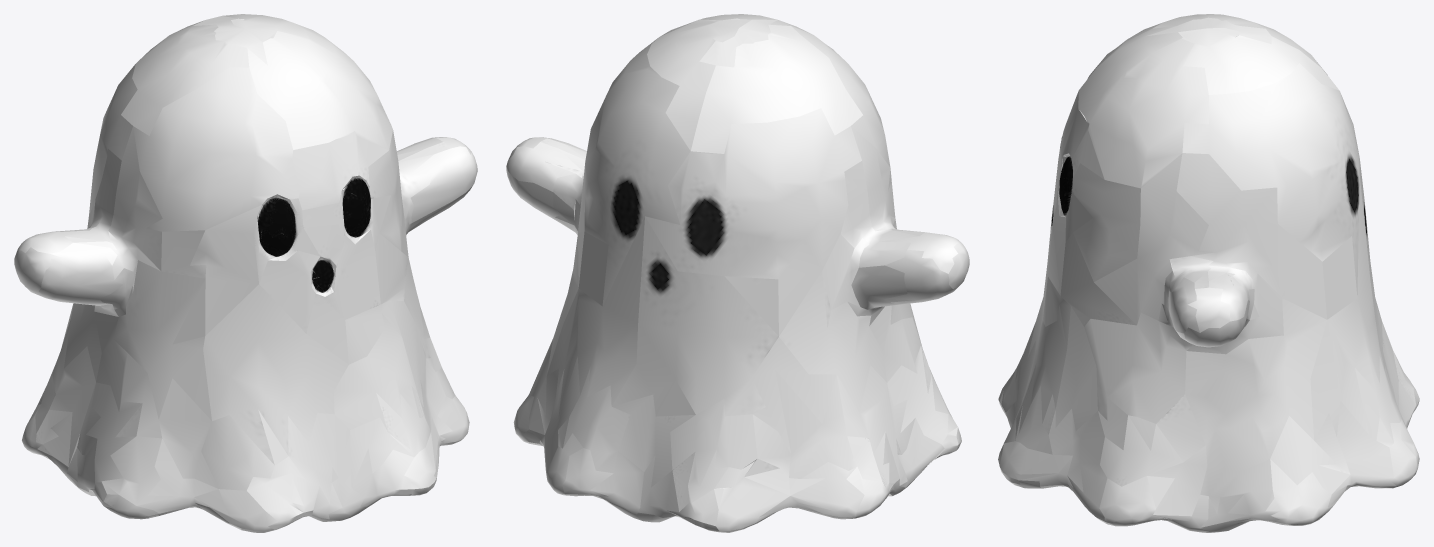
The model's file is spook.glb.
3 renders of one model, left to right at view 1: azimuth 30°, elevation 25°; view 2: azimuth 150°, elevation 25°; view 3: azimuth 270°, elevation 25°, orthographic.
Bounding box in the file's own units: 1.9 × 1.71 × 1.54.
Materials: 1 (1 with a texture image).
